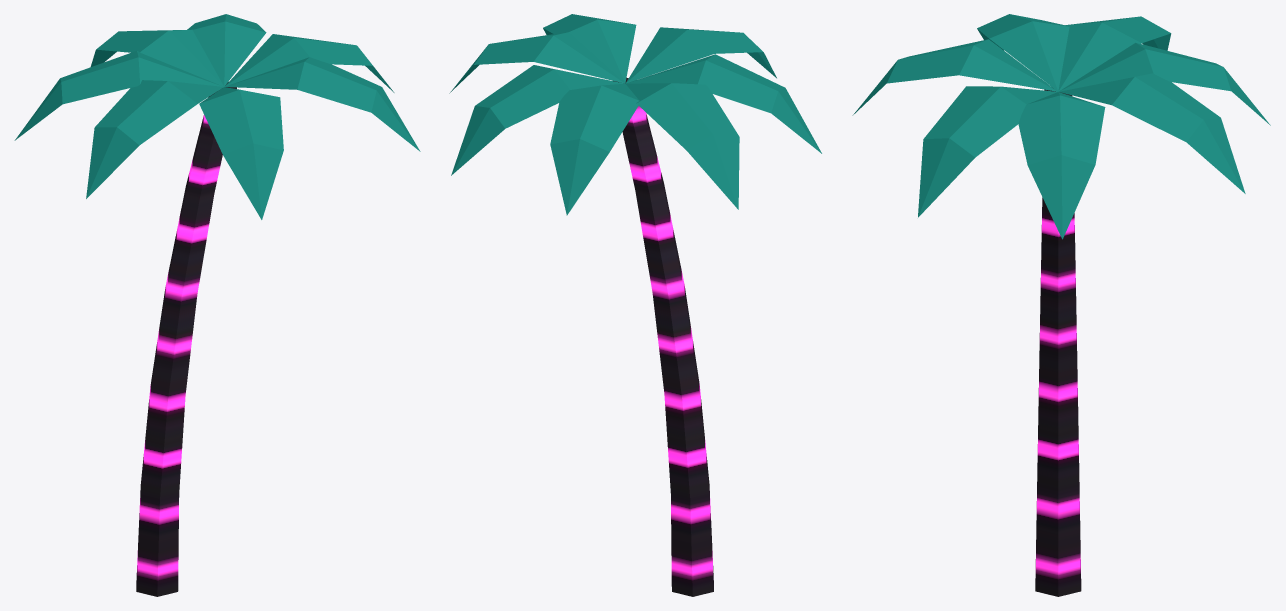
Rendered from palm.glb.
3 renders of one model, left to right at view 1: azimuth 30°, elevation 25°; view 2: azimuth 150°, elevation 25°; view 3: azimuth 270°, elevation 25°, orthographic. The views are drawn at different scales.
Visible parts, largest first — view 1: palm; view 2: palm; view 3: palm.
Part boxes in pixels (box(x1,y1,x2,y2)): palm: box(14, 14, 420, 596); palm: box(449, 14, 821, 596); palm: box(852, 14, 1270, 596).
Size of the model in its own units: 4.56 by 6.6 by 4.45.
Materials: 1 (1 with a texture image).
